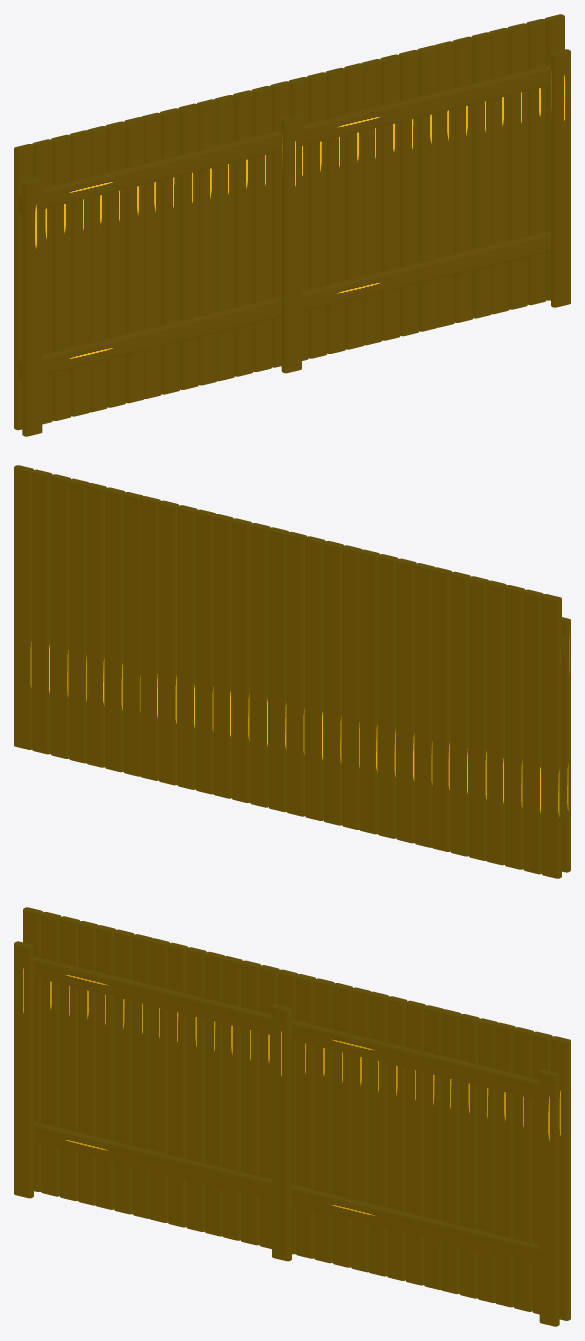
File: yourMesh.obj.gltf
3 views of the same model, one above another, from view 1: azimuth 30°, elevation 25°; view 2: azimuth 150°, elevation 25°; view 3: azimuth 330°, elevation 25° (orthographic).
Bounding box in the file's own units: 30.06 × 14.63 × 1.22.
1 material, 1 textured.
